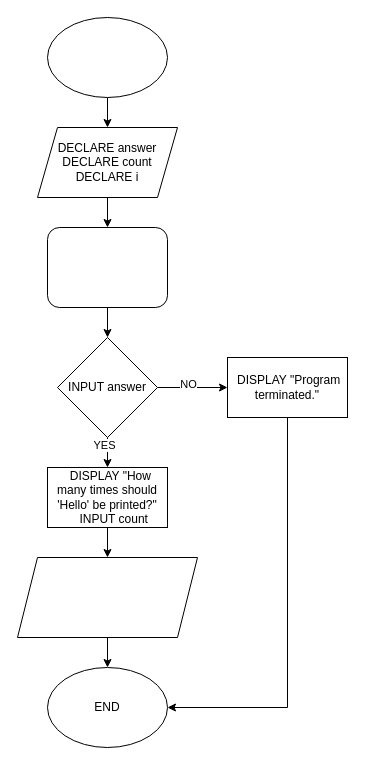
Image size: 365x765. Some labels were removed from this diagram. Here are the shapes that lost their labels. From the top down, the box of each, then its label:
(46, 16, 168, 98): BEGIN
(46, 226, 168, 308): DISPLAY "Would you like to play the Hello game? (yes/no): "
(16, 556, 198, 638): FOR i = 1 TO count DISPLAY "Hello"
